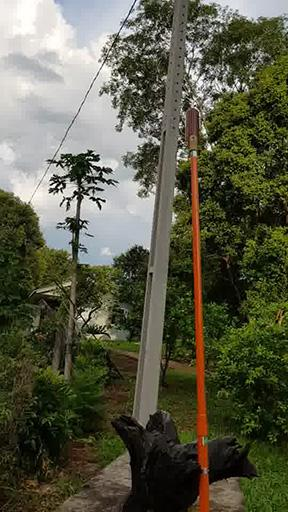Detector_Tensao_Contato: (184, 96, 199, 144)
Vara_Manobra: (186, 142, 211, 512)
